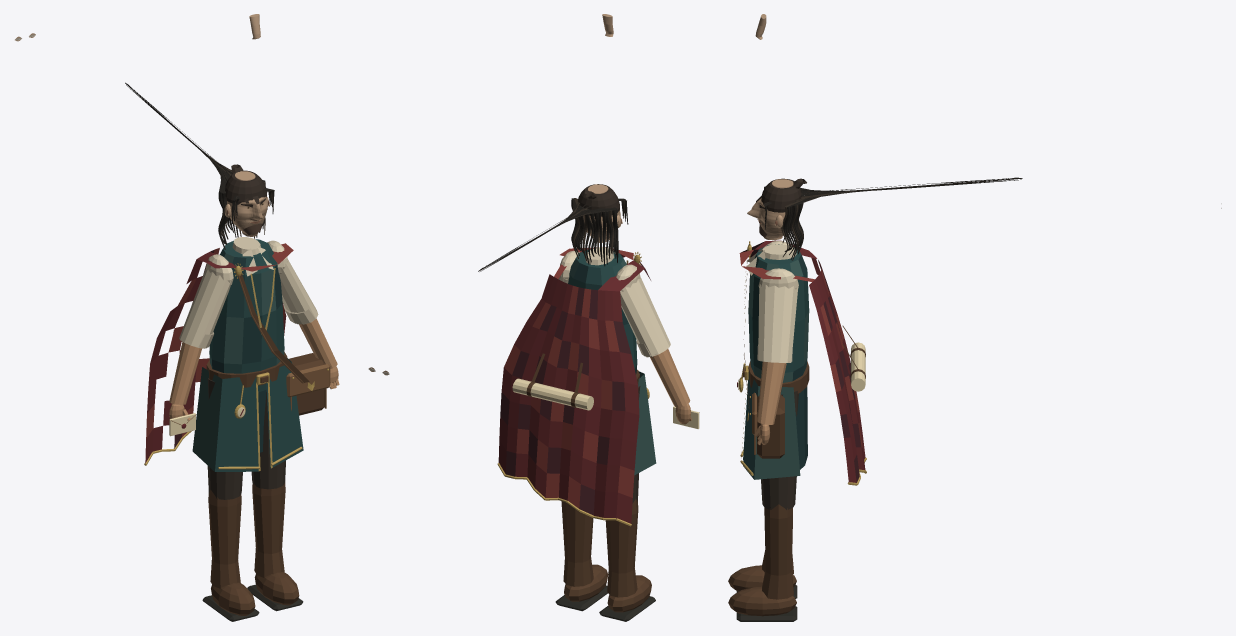
Rendered from courier.glb.
3 renders of one model, left to right at view 1: azimuth 30°, elevation 25°; view 2: azimuth 150°, elevation 25°; view 3: azimuth 270°, elevation 25°, orthographic.
Parts seen in each view (by area): view 1: Waistcoat, Split_coat_R, Cloak_folds, Boot_shaft_R, Boot_shaft_L, Split_coat_L, Linen_sleeve_R, Forearm_R, Trouser_thigh_L, Linen_sleeve_L, Boot_toe_R, Boot_toe_L (+9 smaller); view 2: Cloak_folds, Boot_shaft_R, Boot_shaft_L, Linen_sleeve_R, Waistcoat, Split_coat_R, Map_roll, Forearm_R, Boot_toe_L, Boot_toe_R, Hair_target_top, Boot_sole_R (+1 smaller); view 3: Cloak_folds, Waistcoat, Linen_sleeve_L, Boot_shaft_L, Split_coat_L, Boot_toe_L, Forearm_L, Trouser_thigh_L, Messenger_satchel, Face, Hair_target_top, Back_coat (+1 smaller).
Part boxes in pixels (<box>): Waistcoat: <box>209,239,284,392</box>; Split_coat_R: <box>192,367,258,471</box>; Cloak_folds: <box>145,243,293,463</box>; Boot_shaft_R: <box>208,490,241,588</box>; Boot_shaft_L: <box>252,481,285,577</box>; Split_coat_L: <box>266,358,303,468</box>; Linen_sleeve_R: <box>179,267,231,348</box>; Forearm_R: <box>169,342,201,404</box>; Trouser_thigh_L: <box>251,392,285,489</box>; Linen_sleeve_L: <box>279,258,318,324</box>; Boot_toe_R: <box>211,582,255,615</box>; Boot_toe_L: <box>254,572,299,605</box>; Cloak_folds: <box>498,247,650,523</box>; Boot_shaft_R: <box>605,499,638,597</box>; Boot_shaft_L: <box>561,501,593,586</box>; Linen_sleeve_R: <box>620,276,670,357</box>; Waistcoat: <box>568,249,637,374</box>; Split_coat_R: <box>634,371,656,475</box>; Map_roll: <box>512,378,593,410</box>; Forearm_R: <box>650,348,690,407</box>; Boot_toe_L: <box>564,564,608,601</box>; Boot_toe_R: <box>607,575,651,612</box>; Hair_target_top: <box>578,184,619,216</box>; Boot_sole_R: <box>599,596,655,621</box>; Cloak_folds: <box>739,240,865,482</box>; Waistcoat: <box>748,244,809,382</box>; Linen_sleeve_L: <box>758,284,798,362</box>; Boot_shaft_L: <box>762,504,793,599</box>; Split_coat_L: <box>743,372,800,479</box>; Boot_toe_L: <box>728,586,796,616</box>; Forearm_L: <box>757,361,786,424</box>; Trouser_thigh_L: <box>761,390,798,509</box>; Messenger_satchel: <box>757,394,784,458</box>; Face: <box>747,179,793,240</box>; Hair_target_top: <box>761,178,801,212</box>; Back_coat: <box>795,386,807,469</box>.
Size of the model in its own units: 0.7395 by 2.41 by 1.83.
